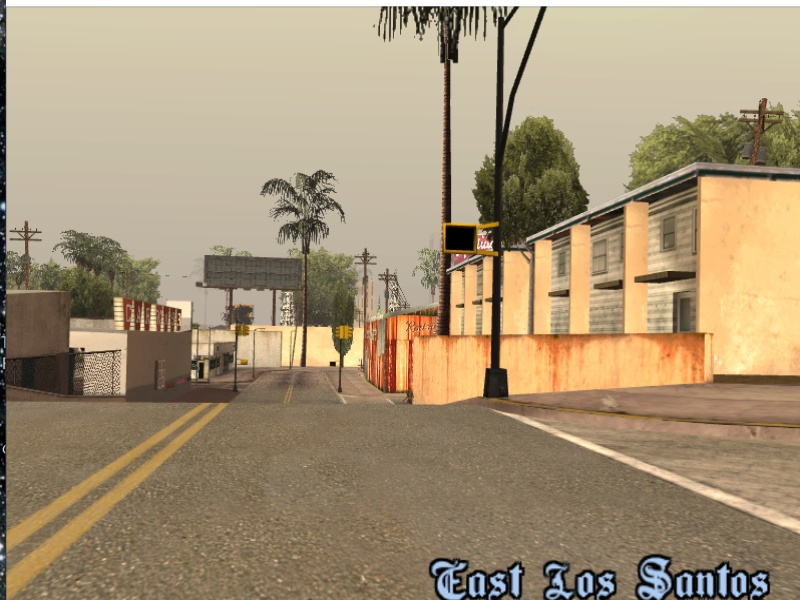pole: (487, 32, 512, 401), (336, 328, 345, 395), (232, 319, 240, 392)
